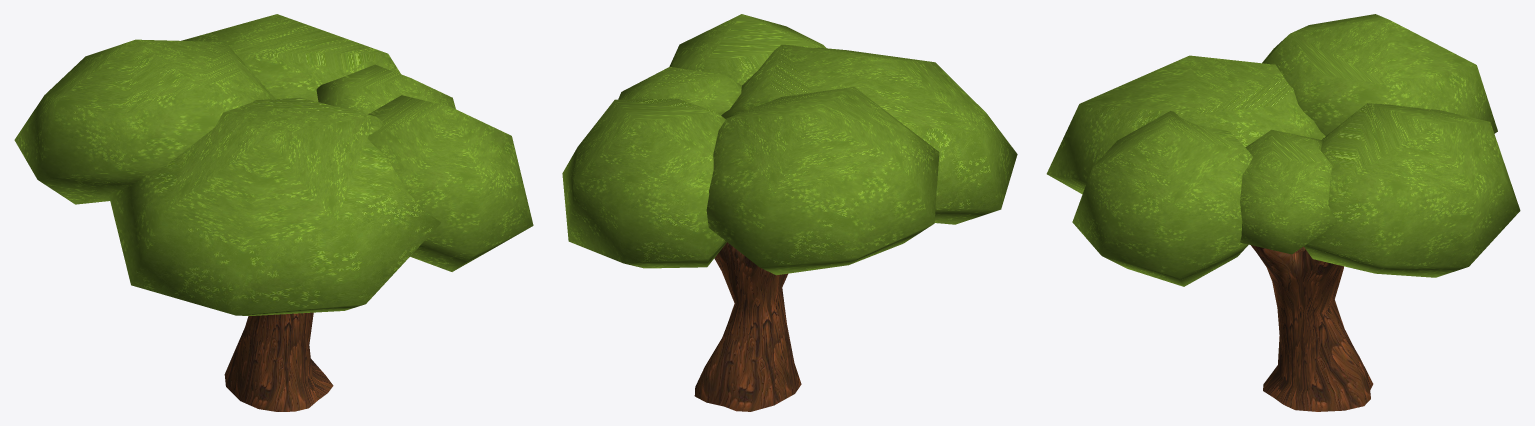
File: Arbre3.fbx
3 views of the same model, side by side, from view 1: azimuth 30°, elevation 25°; view 2: azimuth 150°, elevation 25°; view 3: azimuth 270°, elevation 25° (orthographic). The views are drawn at different scales.
Visible parts, largest first — view 1: polySurface8, polySurface12, polySurface11, polySurface7, polySurface9, polySurface10; view 2: polySurface12, polySurface7, polySurface8, polySurface9, polySurface11, polySurface10; view 3: polySurface7, polySurface11, polySurface12, polySurface8, polySurface9, polySurface10.
Boxes of the visible parts, <box> form: polySurface8: <box>109,97,440,315</box>; polySurface12: <box>14,39,275,204</box>; polySurface11: <box>368,95,533,271</box>; polySurface7: <box>181,14,400,101</box>; polySurface9: <box>224,312,333,411</box>; polySurface10: <box>316,64,455,114</box>; polySurface12: <box>706,87,939,275</box>; polySurface7: <box>562,98,726,268</box>; polySurface8: <box>721,44,1017,224</box>; polySurface9: <box>694,242,801,411</box>; polySurface11: <box>669,14,826,85</box>; polySurface10: <box>618,67,741,115</box>; polySurface7: <box>1304,103,1520,277</box>; polySurface11: <box>1072,111,1252,286</box>; polySurface12: <box>1262,14,1497,135</box>; polySurface8: <box>1046,55,1325,194</box>; polySurface9: <box>1251,245,1373,411</box>; polySurface10: <box>1240,129,1337,254</box>.
Size of the model in its own units: 11.85 by 10.09 by 13.44.
Materials: 2 (2 with a texture image).
